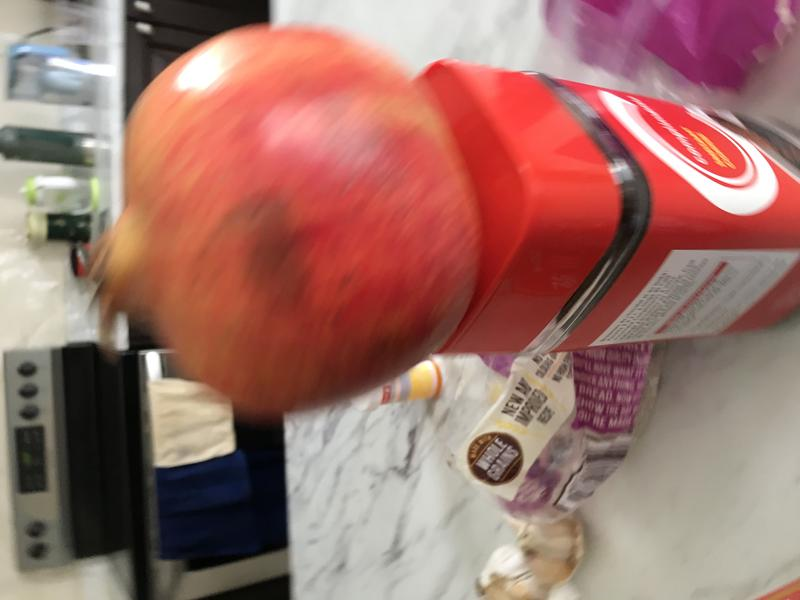pomegranate: (59, 11, 492, 429)
